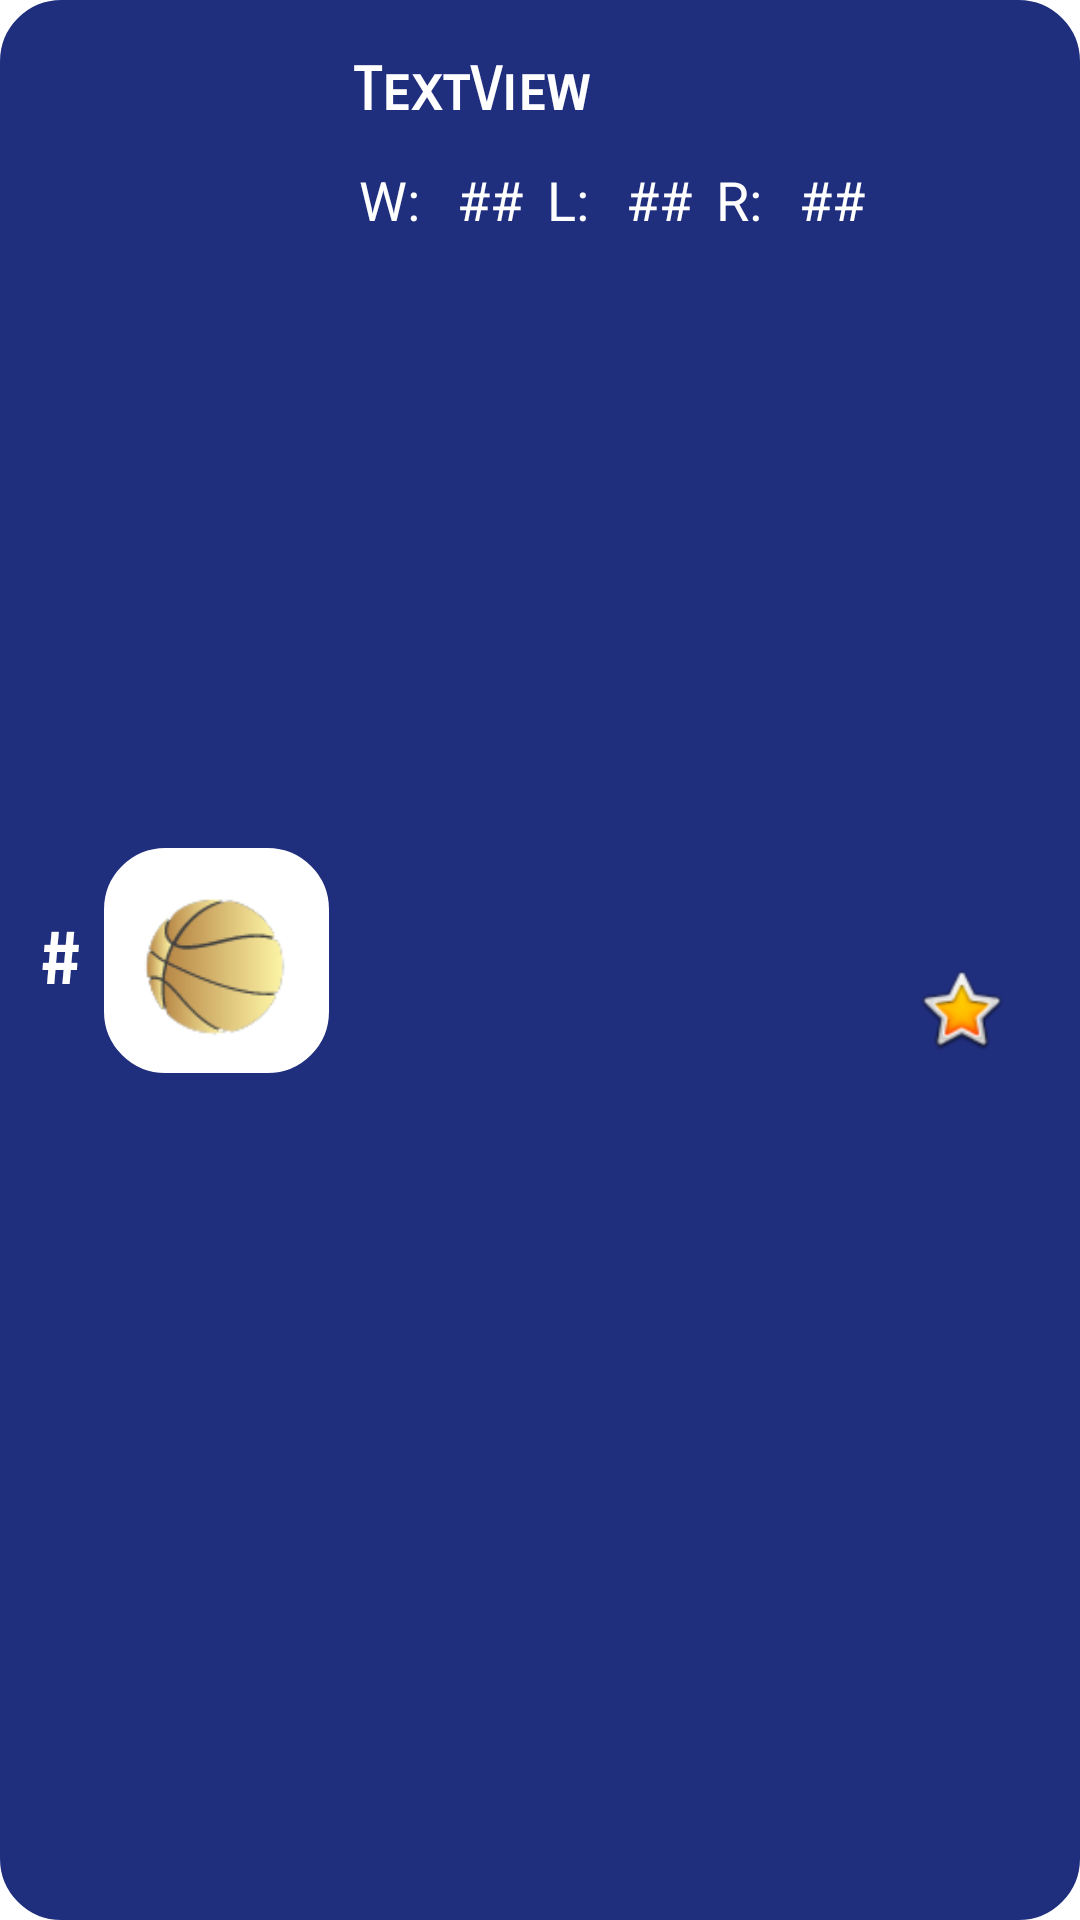

Icons on this 1080 x 1920 Android screen, each with its box as (x1, y1, x2, y2):
basketball: (146, 899, 284, 1034)
star on: (923, 972, 1001, 1048)
